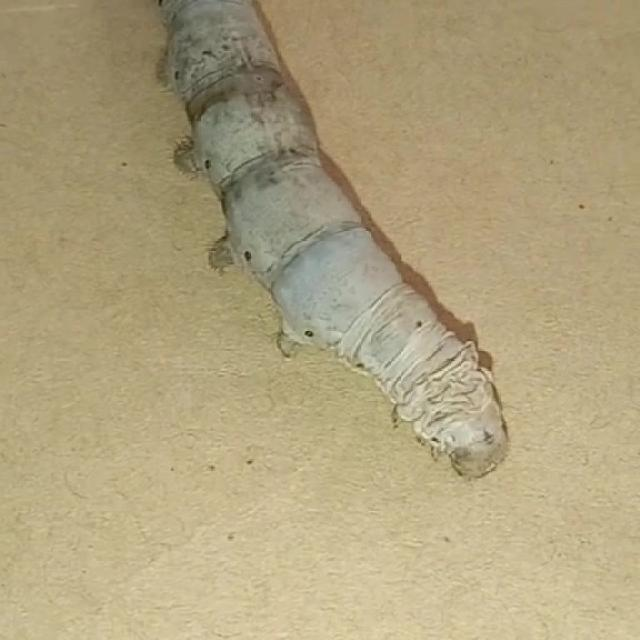Grasserie: (134, 3, 526, 486)
